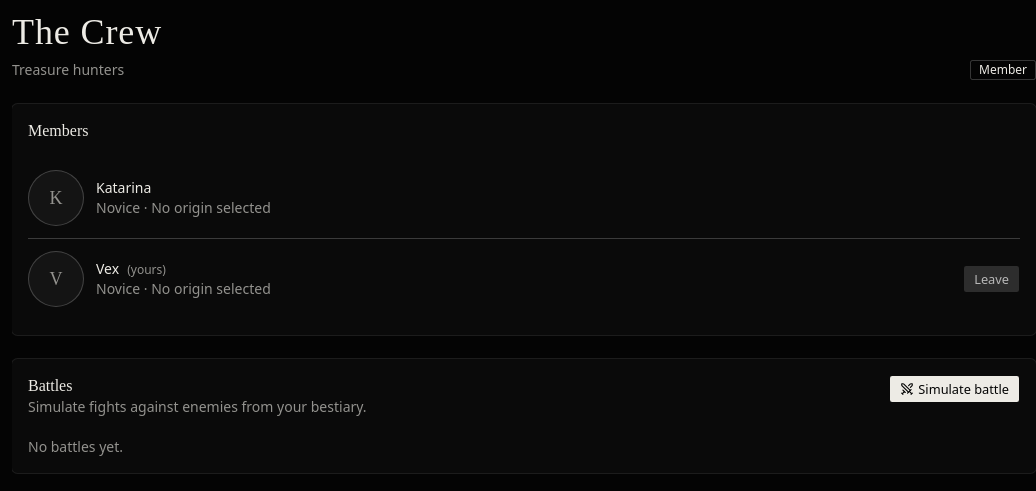
Test: PartyRoute › only lets participants leave with their own characters
Expected: the text "Katarina" is shown, [96,178,151,197]
Click the button with aria-label "Leave Vex" at (992, 279), box [963,265,1020,293]
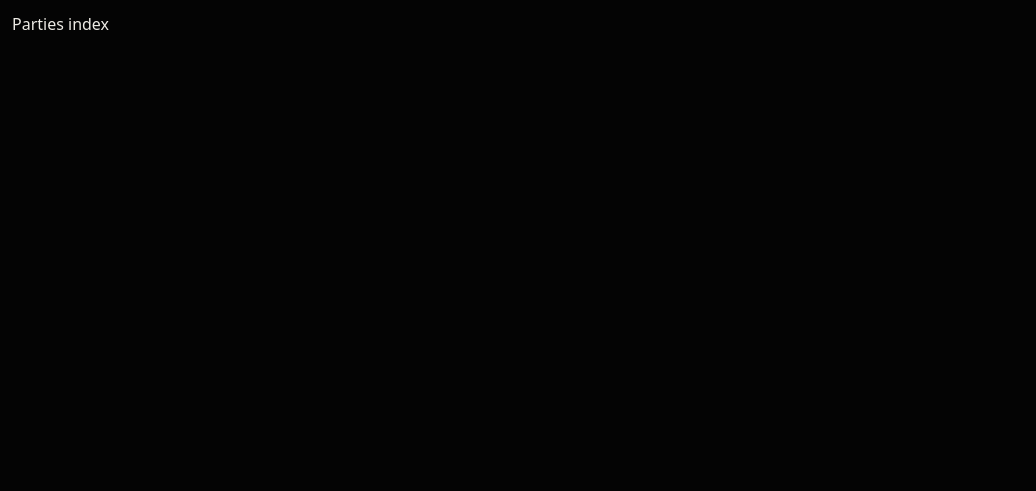
Result: the text "Parties index" is shown at [12,13,109,35]
